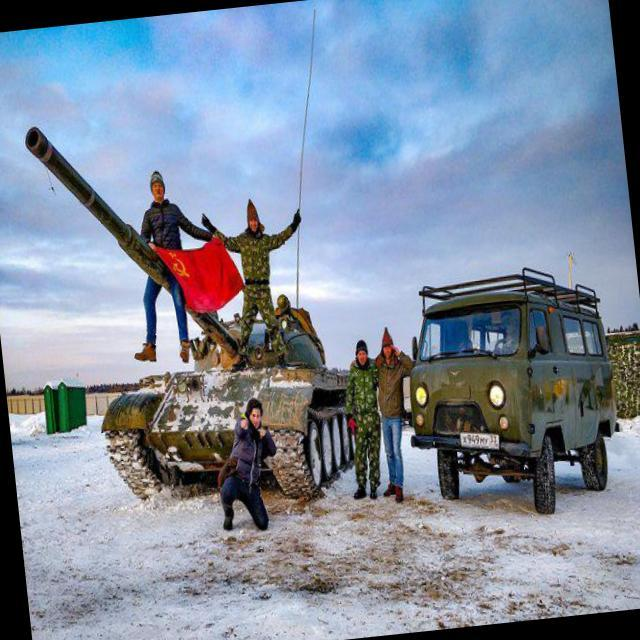rocket: (28, 105, 236, 372)
